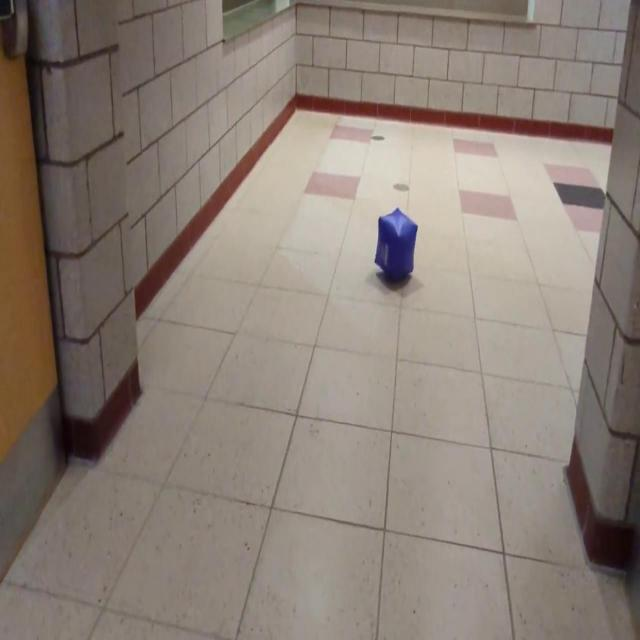frc_cube: (374, 207, 418, 280)
